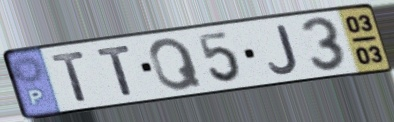3: (299, 15, 350, 73)
5: (195, 29, 244, 86)
J: (266, 23, 301, 76)
Q: (147, 35, 206, 93)
T: (95, 43, 137, 98), (49, 49, 90, 104)
